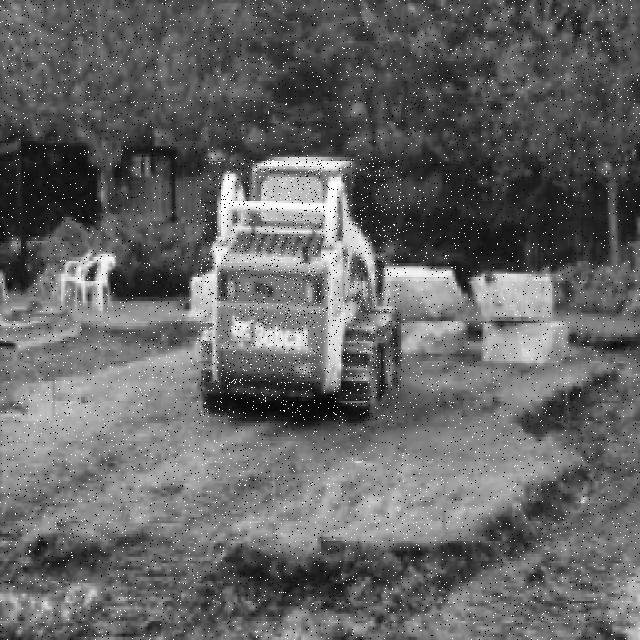Construction Equipment: (197, 158, 402, 418)
